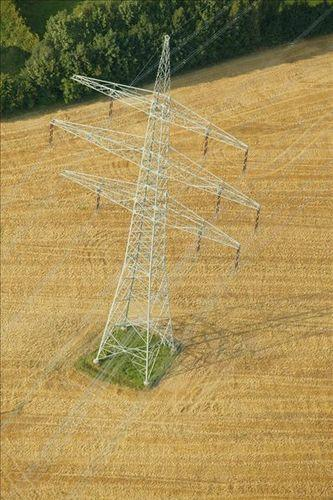power_tower: (49, 31, 266, 392)
